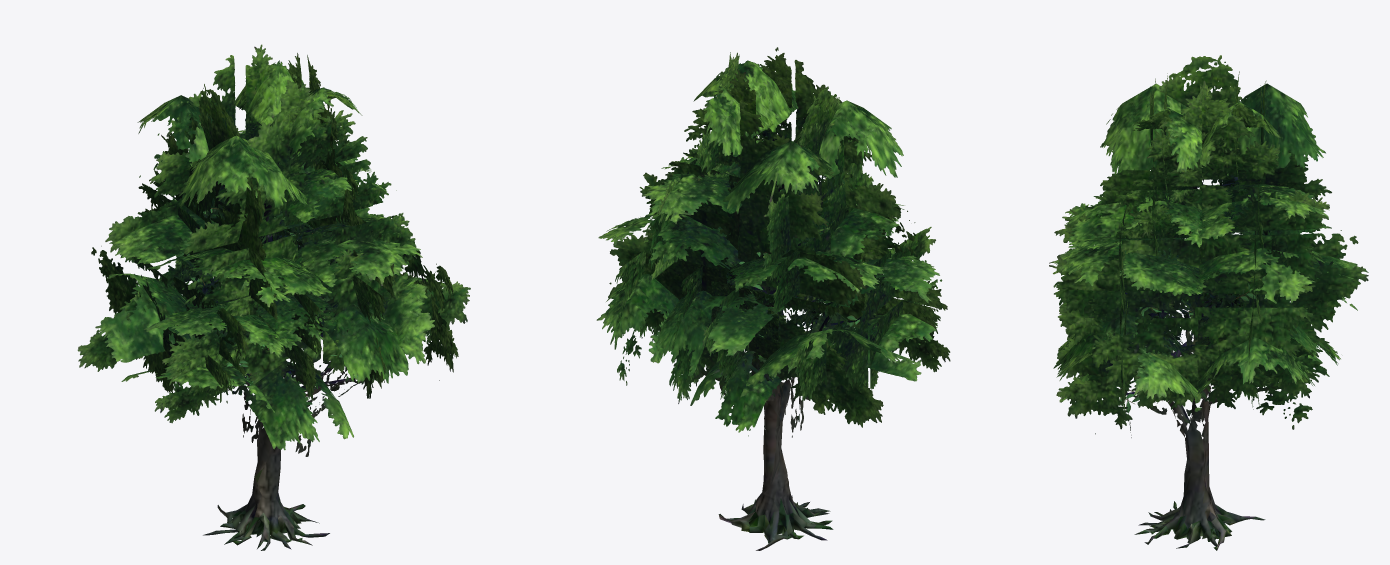
The model's file is verdant-sentinel-mid.glb.
3 views of the same model, side by side, from view 1: azimuth 30°, elevation 25°; view 2: azimuth 150°, elevation 25°; view 3: azimuth 270°, elevation 25° (orthographic).
Parts seen in each view (by area): view 1: Foliage, Wood; view 2: Foliage, Wood; view 3: Foliage, Wood.
Boxes of the visible parts, left/top/right/bottom form: Foliage: left=77, top=44, right=470, bottom=456; Wood: left=192, top=139, right=356, bottom=550; Foliage: left=596, top=47, right=950, bottom=437; Wood: left=717, top=129, right=861, bottom=550; Foliage: left=1049, top=55, right=1368, bottom=437; Wood: left=1125, top=136, right=1270, bottom=550.
Bounding box in the file's own units: 9.68 × 12.12 × 7.8.
Materials: 2 (2 with a texture image).
